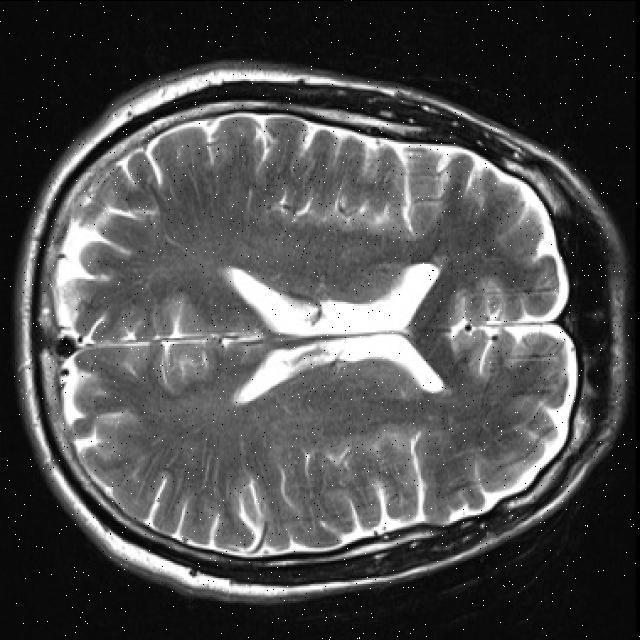No_Tumor: (18, 62, 627, 601)
